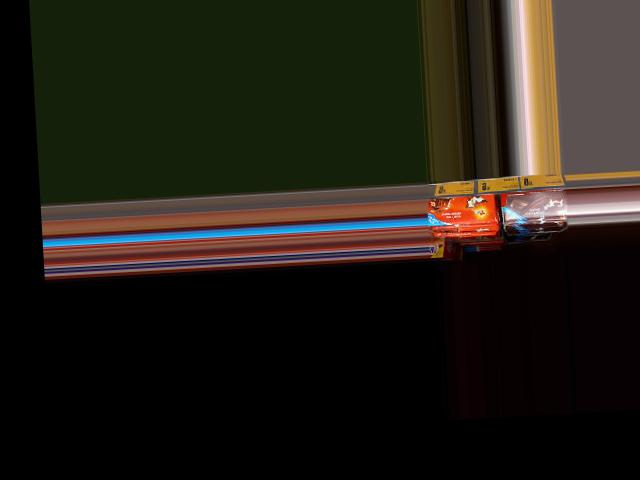chocolate: (506, 182, 569, 223)
